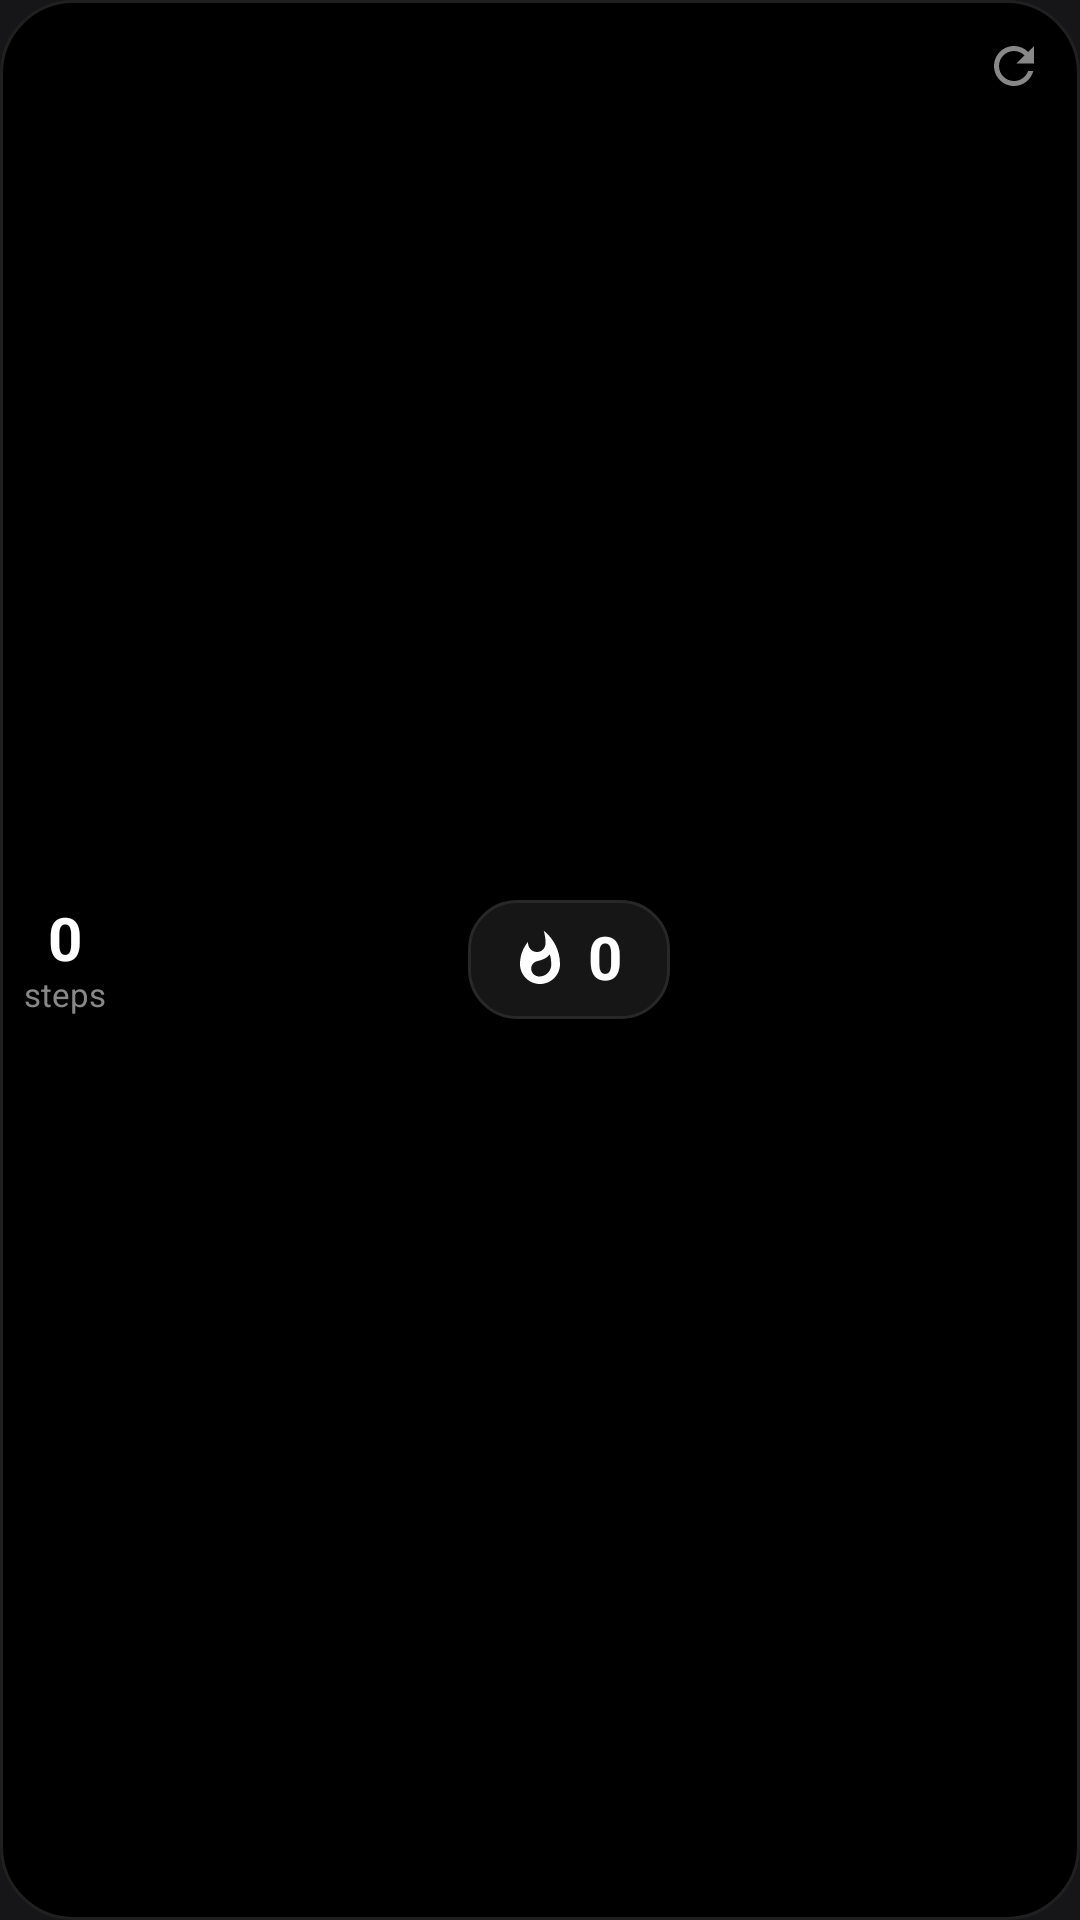

Where to tap for icons on this 1080×1920 app screen, as (x,y):
Calories Burned: (540,957)
Refresh Steps: (1014,66)
